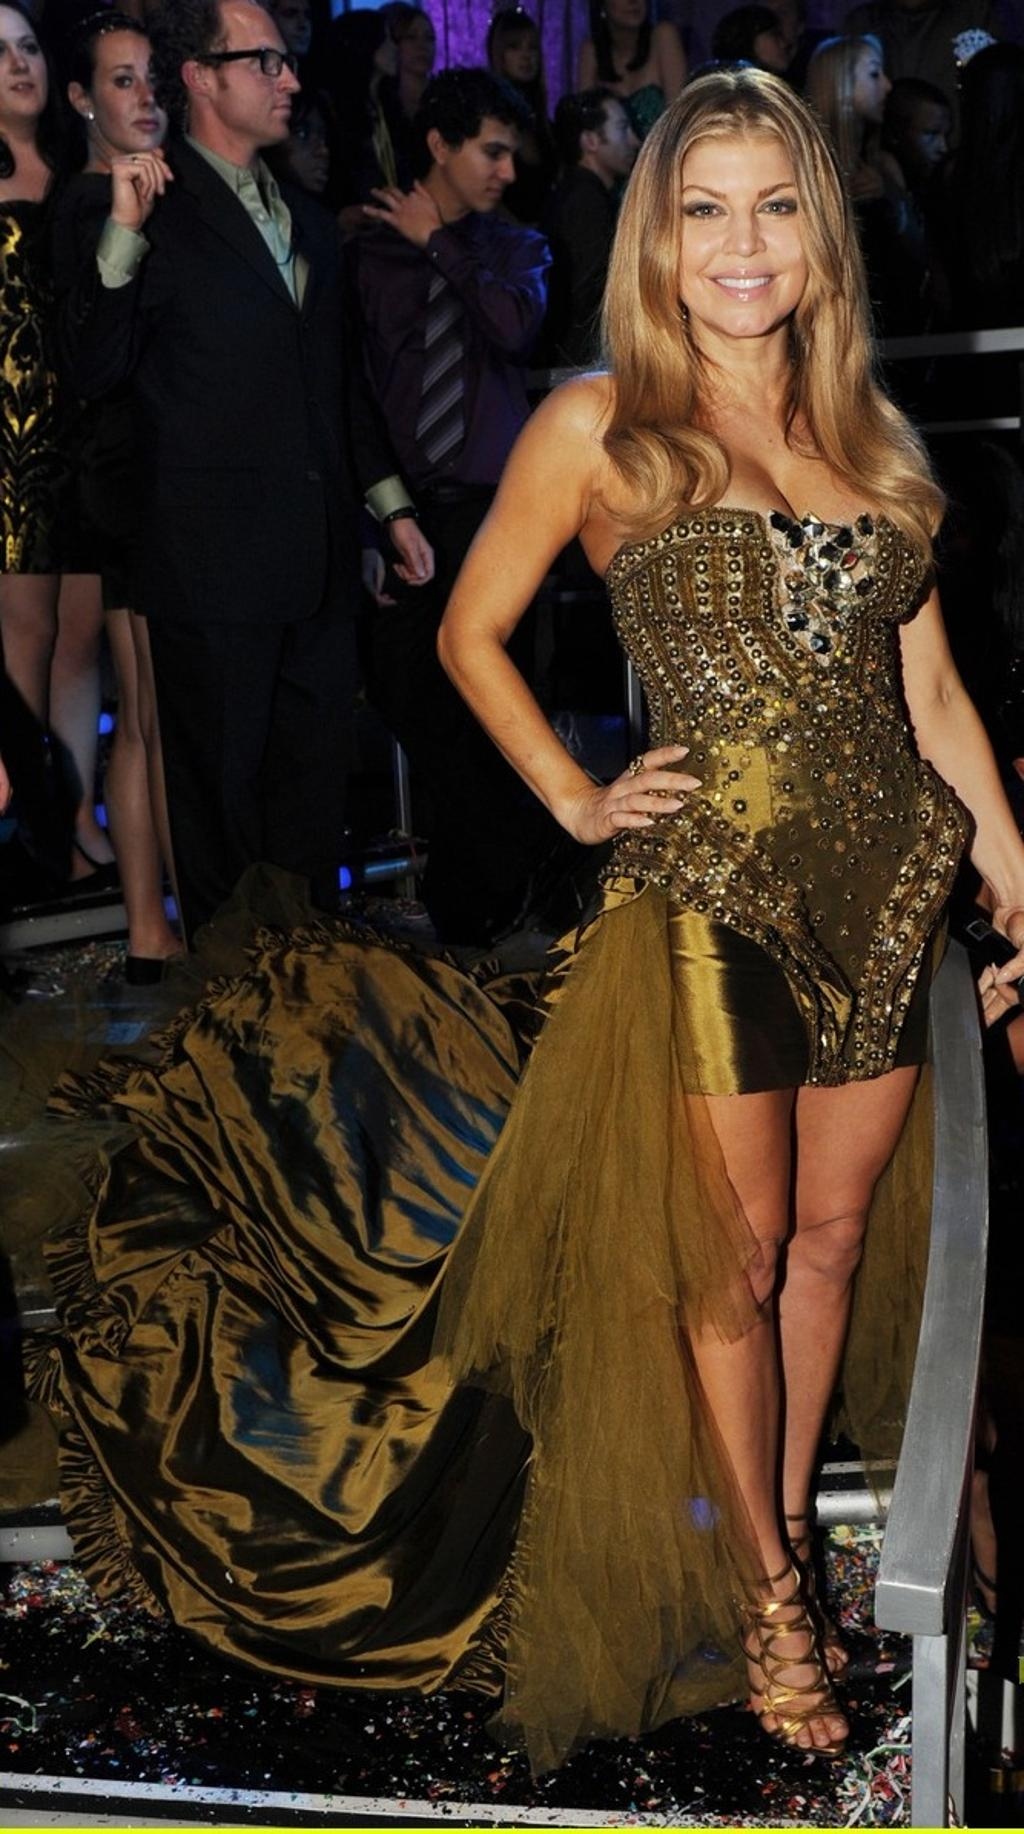face: (664, 141, 817, 336), (209, 9, 300, 139), (91, 44, 170, 151), (446, 126, 523, 212), (0, 15, 47, 113), (278, 107, 327, 191), (840, 51, 891, 120), (900, 111, 951, 179), (591, 107, 639, 175), (745, 21, 787, 69), (272, 0, 309, 52), (398, 21, 435, 71), (504, 30, 538, 78), (365, 26, 398, 75), (606, 0, 644, 26)
